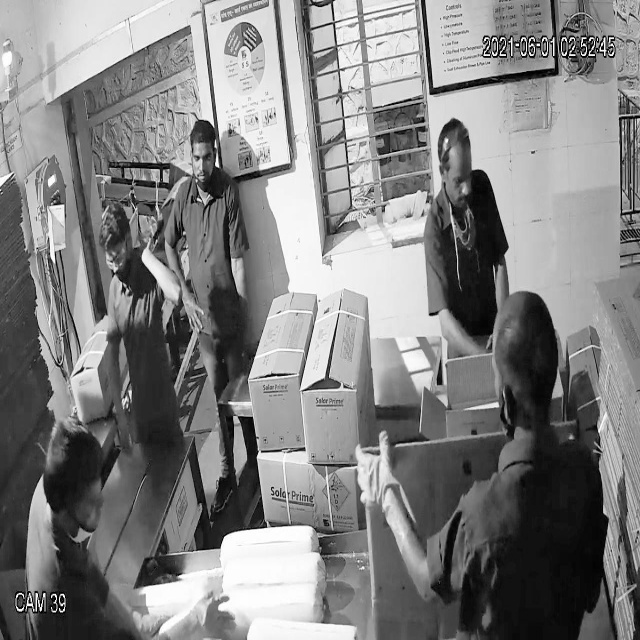Gafas: (98, 242, 134, 276)
Sin_gafas: (434, 159, 476, 193), (186, 137, 219, 171)
